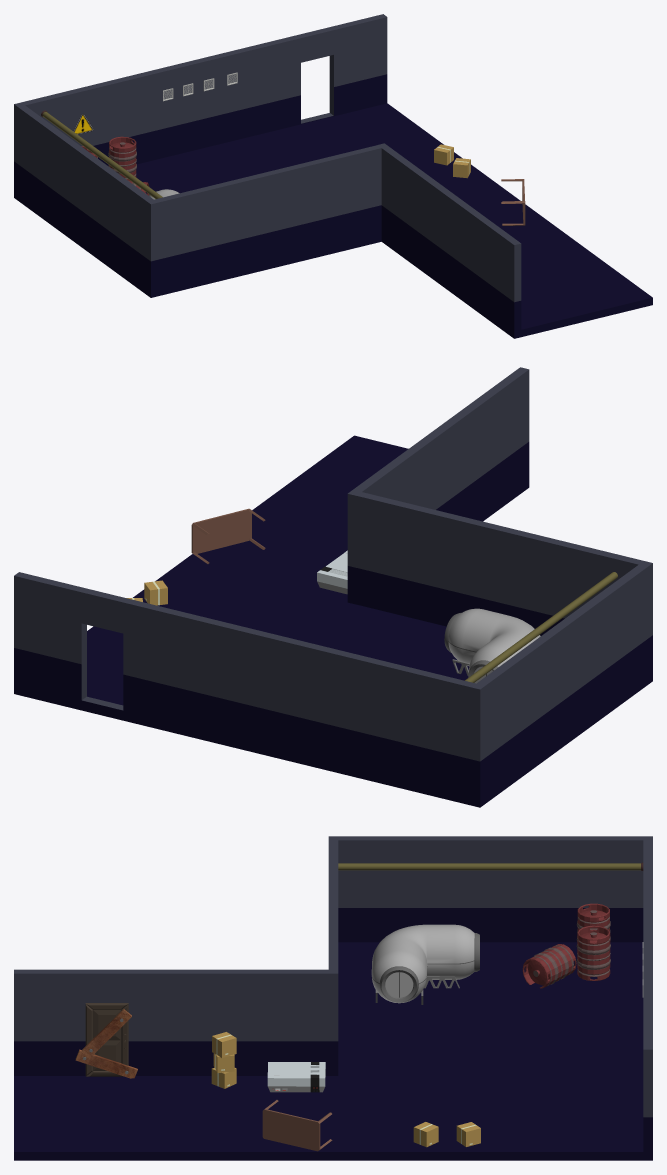
3 renders of one model, top to bottom at view 1: azimuth 30°, elevation 25°; view 2: azimuth 150°, elevation 25°; view 3: azimuth 270°, elevation 25°, orthographic. The views are drawn at different scales.
Parts seen in each view (by area): view 1: Cube.009; view 2: Cube.009; view 3: Cube.009.
Part boxes in pixels (x1=…): Cube.009: x1=14, y1=14, x2=652, y2=338; Cube.009: x1=14, y1=367, x2=652, y2=807; Cube.009: x1=14, y1=836, x2=652, y2=1160.
Bounding box in the file's own units: 3651 × 884 × 4615.
Materials: 23 (3 with a texture image).
